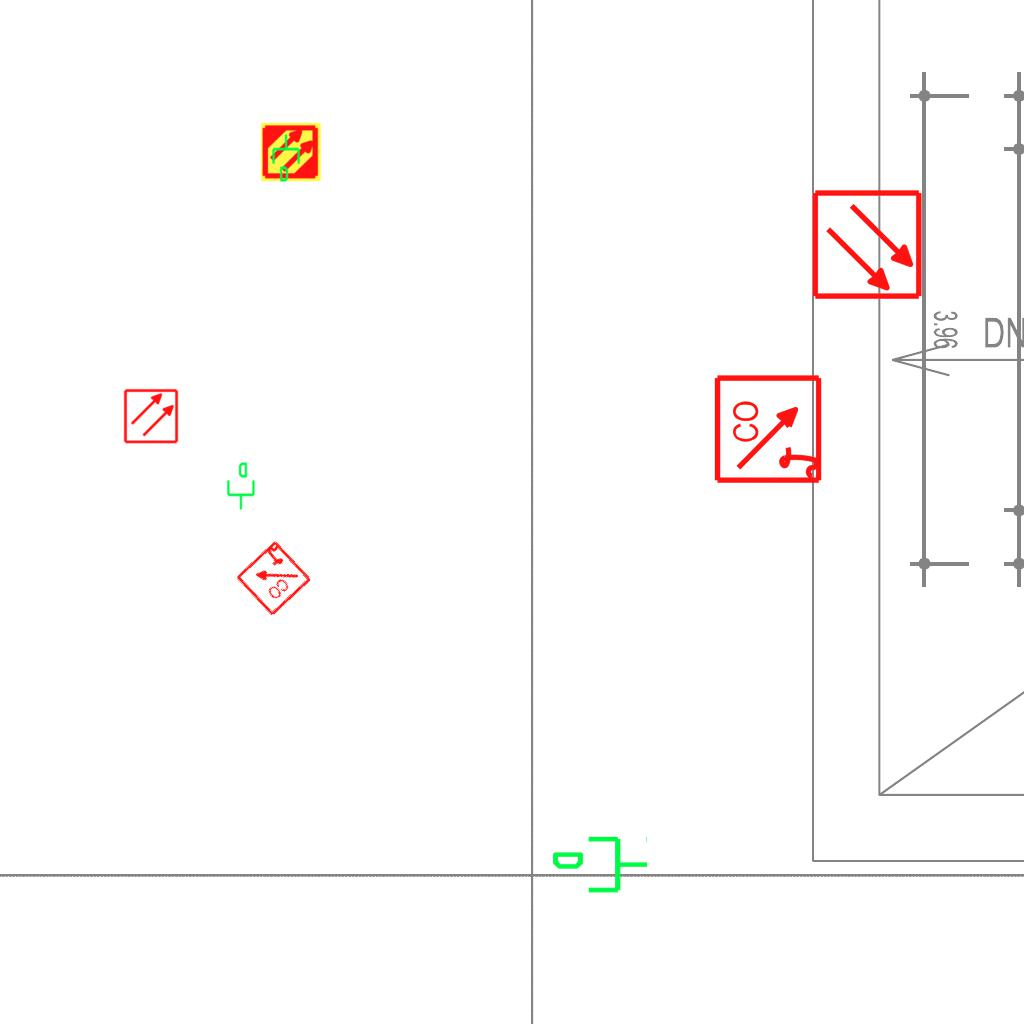ASR_Ansaugrauchmelder: (260, 121, 322, 183)
Datenanschluss_einfach: (550, 832, 650, 901), (223, 461, 257, 511), (270, 133, 304, 183)
RMO_Rauchmelder_optischer: (811, 188, 924, 301), (123, 388, 179, 444)
ROA_Rauchmelder_optisch_mit_Signalgeber_(Sockelsirene): (713, 372, 826, 485), (233, 538, 313, 618)
